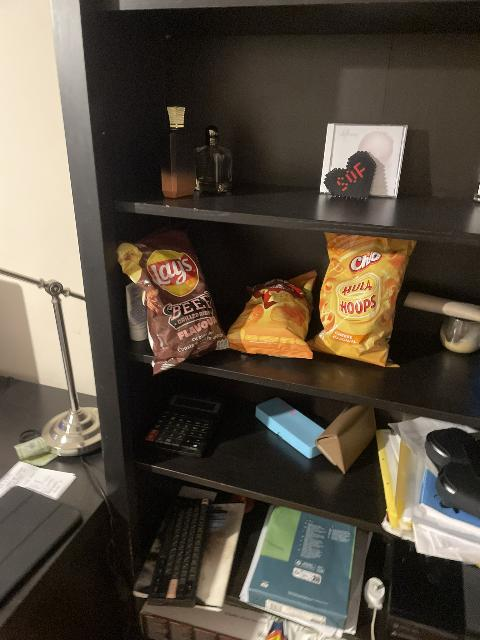Chio Cascaval 125g: (224, 271, 316, 362)
Chio Hula Hoops Cheese 70g: (315, 235, 420, 366)
Lays Beef Grilled Ribs 125g: (119, 227, 227, 370)
